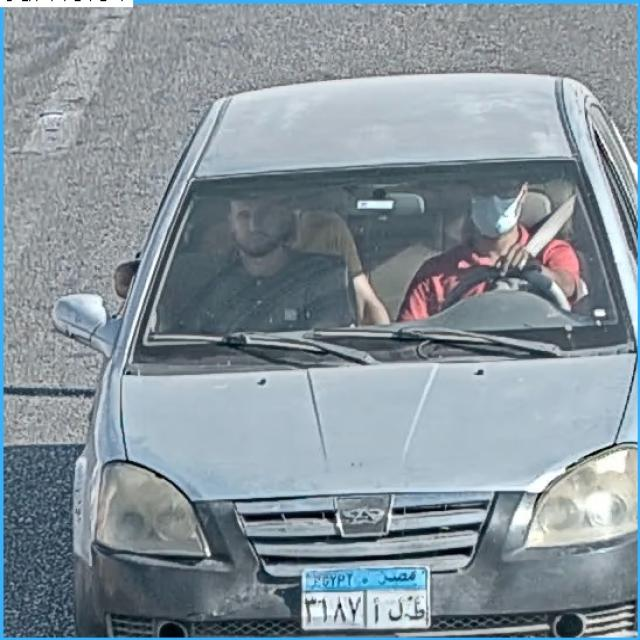windshield: (154, 165, 612, 350)
